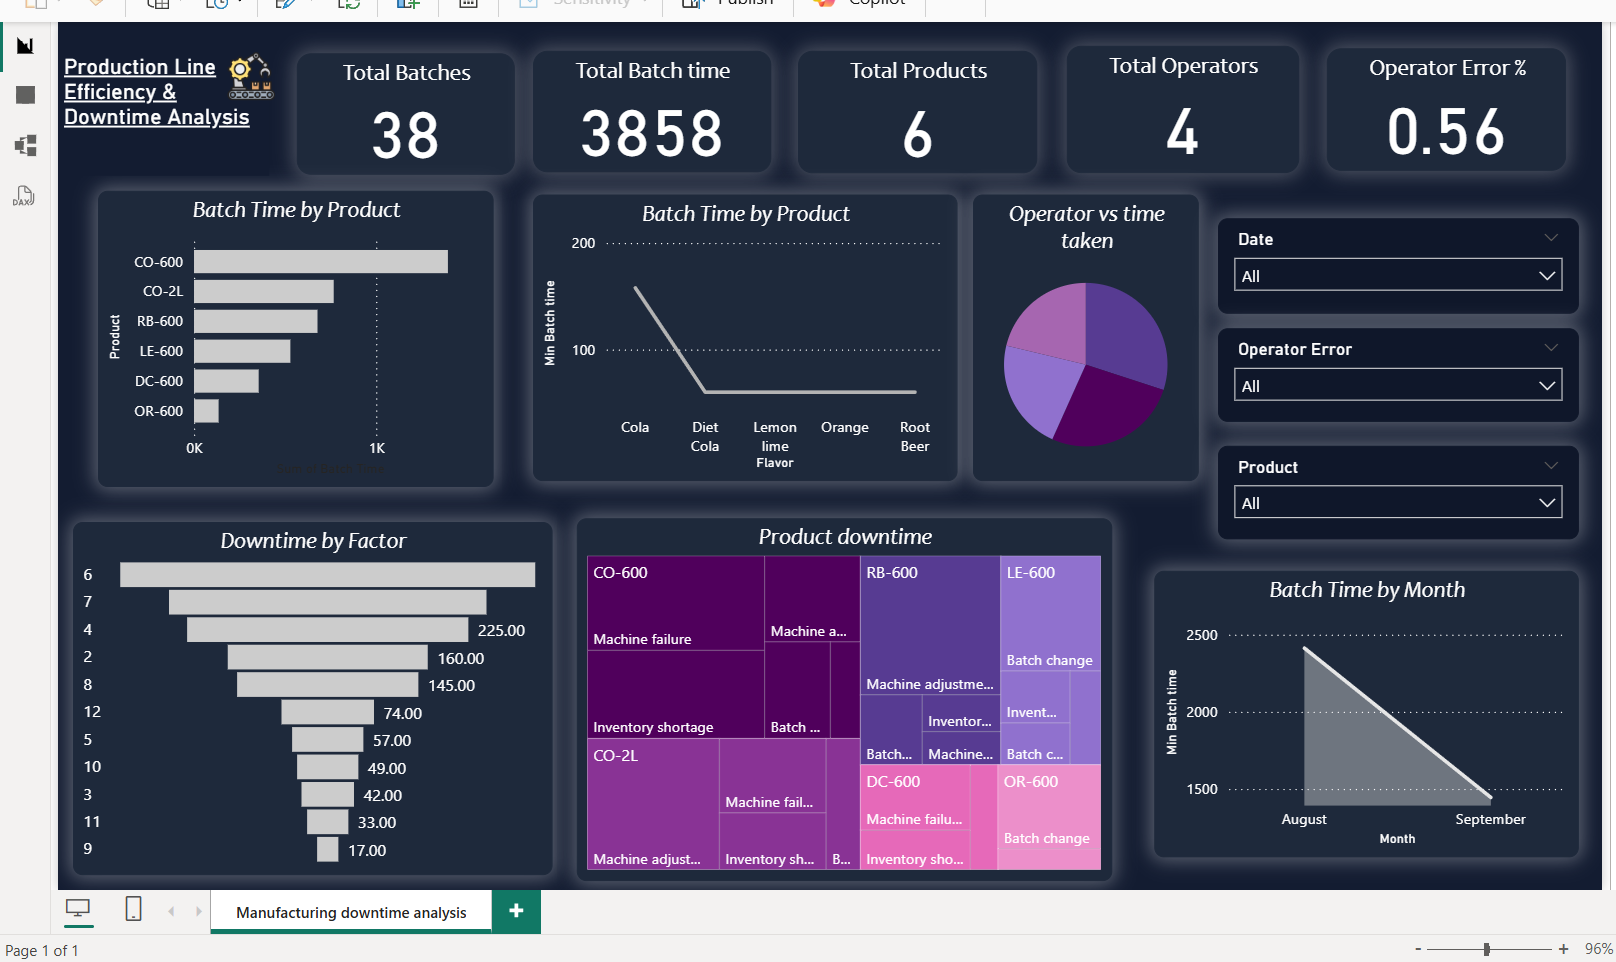

The page's visual inventory and layout, read from the dashboard file:
{"tool":"powerbi","page":{"name":"Manufacturing  downtime analysis","canvas":[1280,720],"ordinal":0},"visuals":[{"type":"card","title":"Total Batches","fields":{"Values":["Downtime factors.Total Batches"]},"box":[197.6,25.7,180.9,100.5],"z":0},{"type":"card","title":"Total Operators","fields":{"Values":["Downtime factors.Operators"]},"box":[836.3,20.1,192.4,105.6],"z":1000},{"type":"card","title":"Total Batch time ","fields":{"Values":["Downtime factors.Total Batch Time (mins)"]},"box":[393.6,23.9,197.4,100.6],"z":2000},{"type":"card","title":"Operator Error %","fields":{"Values":["Downtime factors.Operator Error %"]},"box":[1051.4,21.4,198.7,101.9],"z":3000},{"type":"card","title":"Total Products","fields":{"Values":["Downtime factors.Products"]},"box":[613.7,23.9,198.7,101.9],"z":4000},{"type":"barChart","title":"Batch Time by Product","fields":{"Y":["Sum(Line productivity.Batch Time)"],"Category":["Line productivity.Product"]},"box":[33.5,139.6,328.3,245.7],"z":5000},{"type":"lineChart","title":"Batch Time by Product","fields":{"Category":["Products.Flavor"],"Y":["Sum(Products.Min batch time)"]},"box":[393.6,143.4,352.1,237.7],"z":6000},{"type":"funnel","title":"Downtime by Factor ","fields":{"Category":["Line downtime.Factor"],"Y":["Sum(Line downtime.Downtime Minutes)"]},"box":[12.6,415,397.4,293],"z":7000},{"type":"treemap","title":"Product downtime","fields":{"Group":["Line productivity.Product"],"Values":["Sum(Line downtime.Downtime Minutes)"],"Details":["Downtime factors.Description"]},"box":[430.1,411.2,443.9,300.6],"z":8000},{"type":"pieChart","title":"Operator vs time taken","fields":{"Category":["Line productivity.Operator"],"Y":["Sum(Line productivity.Actual Batch Time (mins))"]},"box":[758.3,143.4,187.4,237.7],"z":9000},{"type":"areaChart","title":"Batch Time by Month","fields":{"Category":["Line productivity.Date.Variation.Date Hierarchy.Month"],"Y":["Sum(Line productivity.Actual Batch Time (mins))"]},"box":[909.3,455.3,352.1,237.7],"z":10000},{"type":"slicer","title":"Batch Time by Product","fields":{"Values":["Line productivity.Date"]},"box":[962.1,162.2,299.3,79.2],"z":11000},{"type":"slicer","title":"Batch Time by Product","fields":{"Values":["Downtime factors.Operator Error"]},"box":[962.1,254,299.3,78],"z":12000},{"type":"slicer","title":"Batch Time by Product","fields":{"Values":["Line productivity.Product"]},"box":[962.1,350.9,299.3,78],"z":13000},{"type":"textbox","title":"Production Line Efficiency & Downtime Analysis","box":[0,25.7,175.3,101.6],"z":14000},{"type":"image","box":[132.9,20.1,55.8,50.2],"z":15000}]}

Visuals, with their boxes on the page's 1280x720 design canvas (x1, y1, x2, y2). These are canvas units, not pixel positions in the 1616x962 screenshot, which may show the page scaled, cropped or inside an application window:
"Total Batches" card: 198,26,378,126
"Total Operators" card: 836,20,1029,126
"Total Batch time " card: 394,24,591,124
"Operator Error %" card: 1051,21,1250,123
"Total Products" card: 614,24,812,126
"Batch Time by Product" barChart: 34,140,362,385
"Batch Time by Product" lineChart: 394,143,746,381
"Downtime by Factor " funnel: 13,415,410,708
"Product downtime" treemap: 430,411,874,712
"Operator vs time taken" pieChart: 758,143,946,381
"Batch Time by Month" areaChart: 909,455,1261,693
"Batch Time by Product" slicer: 962,162,1261,241
"Batch Time by Product" slicer: 962,254,1261,332
"Batch Time by Product" slicer: 962,351,1261,429
"Production Line Efficiency & Downtime Analysis" textbox: 0,26,175,127
image: 133,20,189,70
